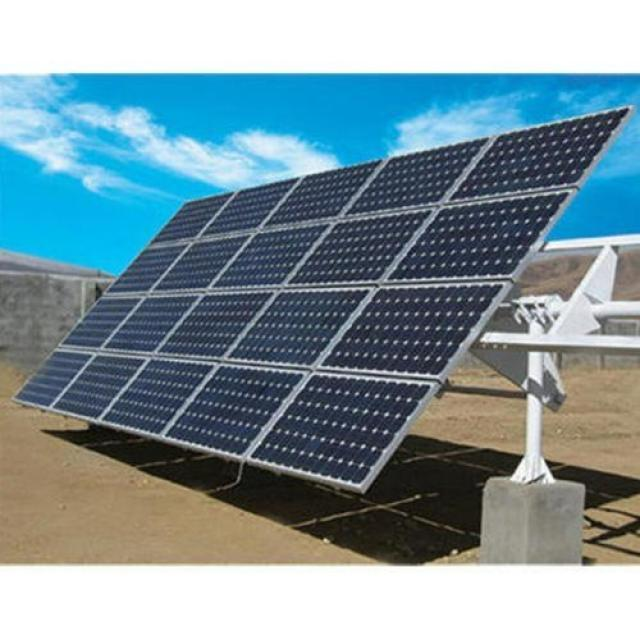clean-solar-panel: (16, 108, 632, 492)
